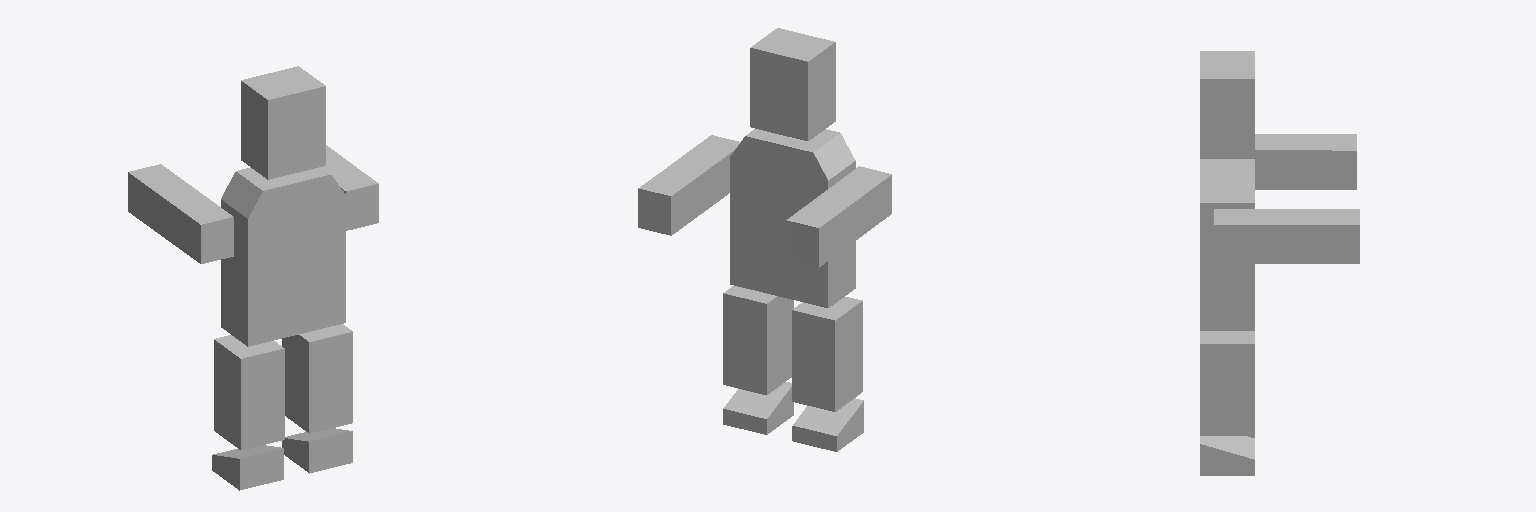
The model's file is testdummyzombie.obj.
The picture shows the model from 3 angles: view 1: azimuth 30°, elevation 25°; view 2: azimuth 150°, elevation 25°; view 3: azimuth 270°, elevation 25°; orthographic projection.
Visible parts, largest first — view 1: Box002; view 2: Box002; view 3: Box002.
Boxes of the visible parts, box(x1,y1,x2,y2) form: Box002: box(128, 66, 378, 490); Box002: box(638, 28, 891, 451); Box002: box(1200, 51, 1359, 475).
Size of the model in its own units: 1.9 by 3.88 by 1.46.